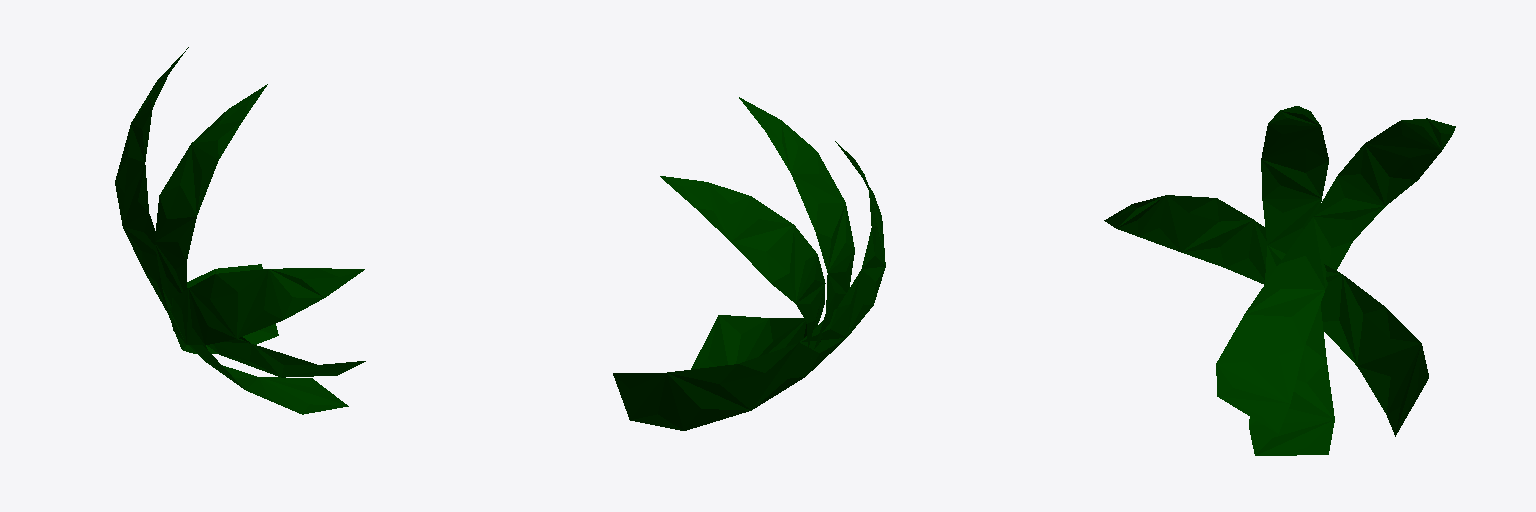
File: organik1.obj
3 renders of one model, left to right at view 1: azimuth 30°, elevation 25°; view 2: azimuth 150°, elevation 25°; view 3: azimuth 270°, elevation 25°, orthographic.
Visible parts, largest first — view 1: Plane.000; view 2: Plane.000; view 3: Plane.000.
Boxes of the visible parts, x1=… form: Plane.000: x1=115, y1=47, x2=365, y2=414; Plane.000: x1=613, y1=97, x2=885, y2=430; Plane.000: x1=1104, y1=106, x2=1455, y2=455.
Size of the model in its own units: 0.3362 by 0.6416 by 0.637.